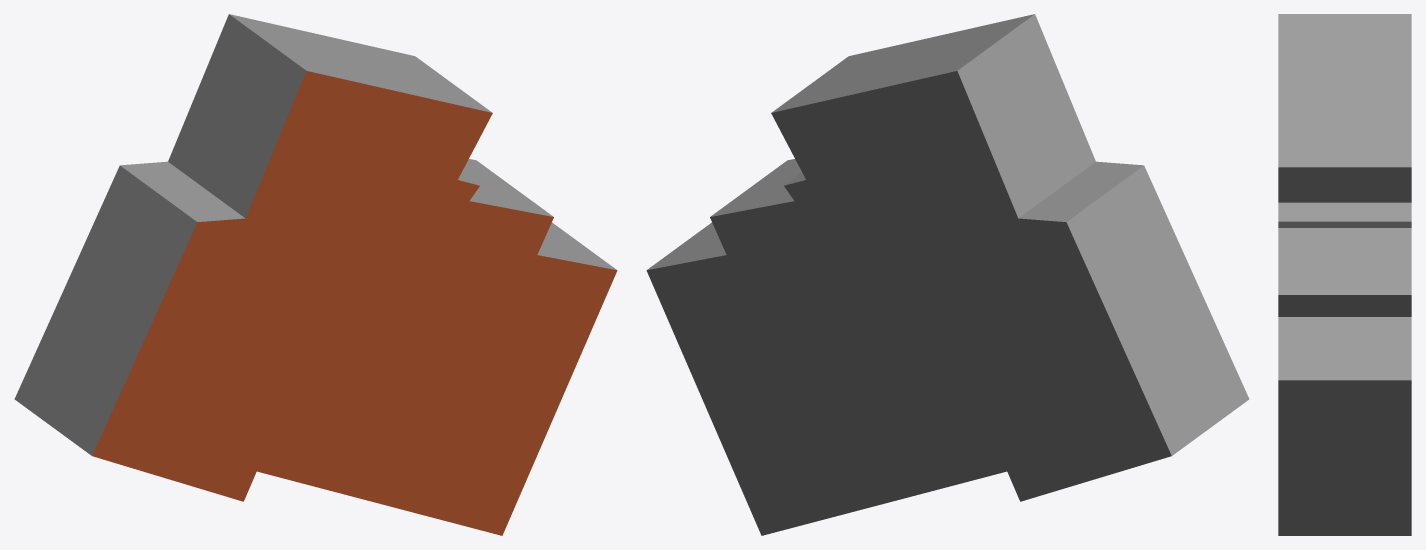
Rendered from construction_6562_assumed_A_Casa_h6m.obj.
The picture shows the model from 3 angles, left to right: view 1: azimuth 30°, elevation 25°; view 2: azimuth 150°, elevation 25°; view 3: azimuth 270°, elevation 25°; orthographic projection. The views are drawn at different scales.
Visible parts, largest first — view 1: construction_6562_assumed_A_Casa; view 2: construction_6562_assumed_A_Casa; view 3: construction_6562_assumed_A_Casa.
Part boxes in pixels (box(x1,y1,x2,y2)): construction_6562_assumed_A_Casa: box(14, 14, 617, 535); construction_6562_assumed_A_Casa: box(646, 14, 1249, 535); construction_6562_assumed_A_Casa: box(1278, 14, 1411, 535).
Size of the model in its own units: 23.44 by 21.86 by 6.
